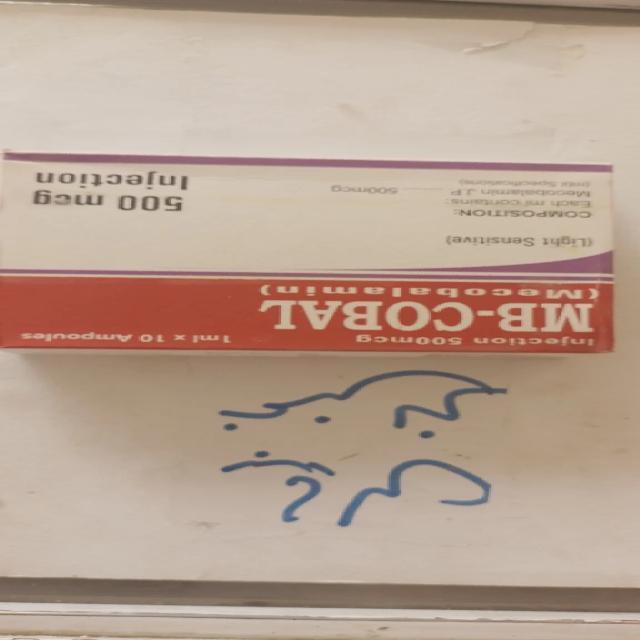drug-name: (254, 300, 599, 332)
